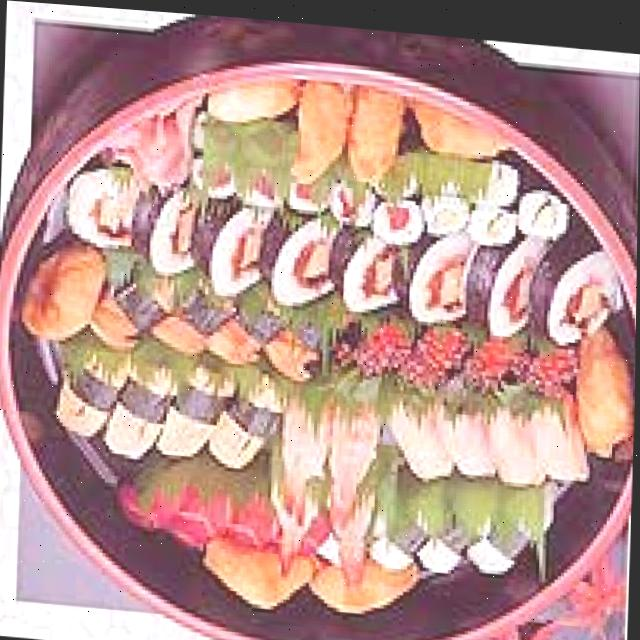寿司卷物: (0, 20, 640, 640)
